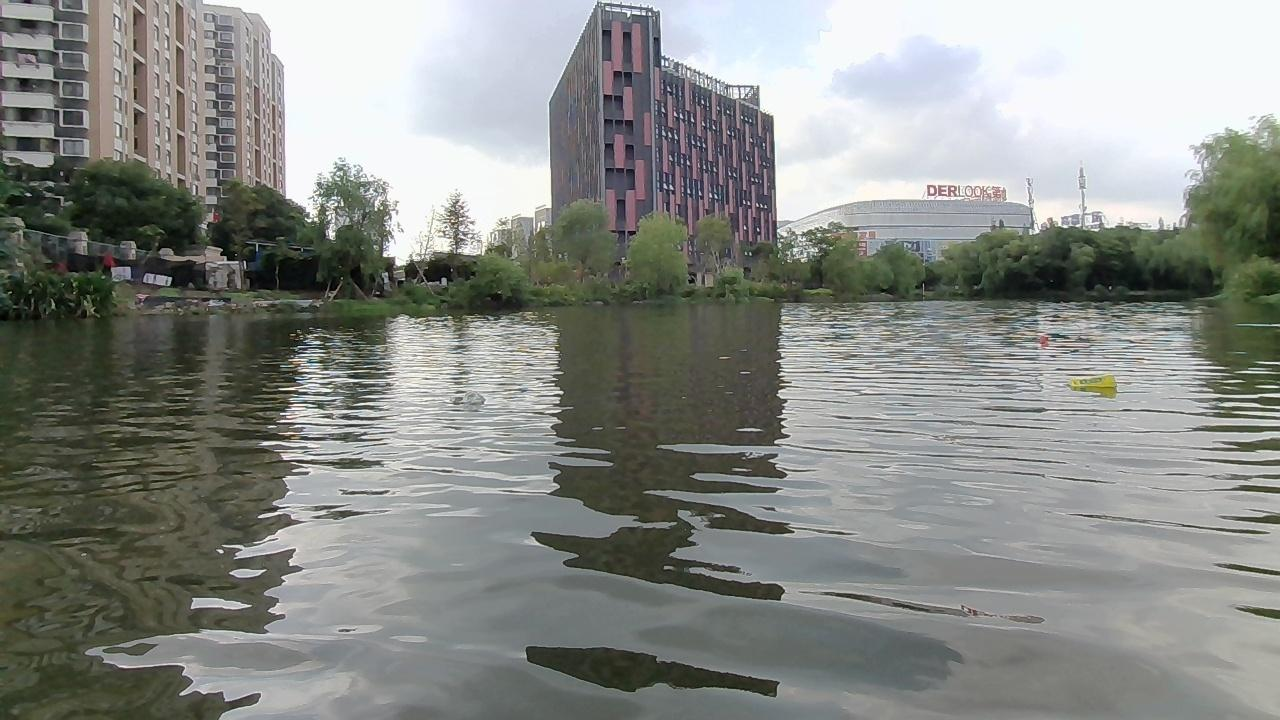bottle: (1061, 371, 1119, 396), (1035, 332, 1051, 347)
